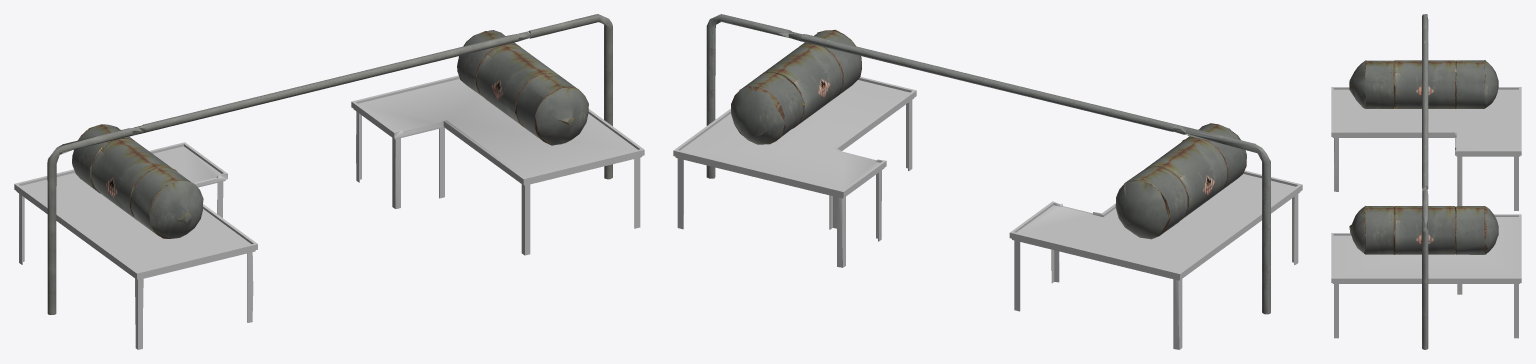
Rendered from tank_1_lod2.FBX.
The picture shows the model from 3 angles, left to right: view 1: azimuth 30°, elevation 25°; view 2: azimuth 150°, elevation 25°; view 3: azimuth 270°, elevation 25°; orthographic projection. The views are drawn at different scales.
Parts seen in each view (by area): view 1: Mesh Object; view 2: Mesh Object; view 3: Mesh Object.
Part boxes in pixels (x1,y1,x2,y2): Mesh Object: [14, 14, 644, 349]; Mesh Object: [673, 14, 1302, 349]; Mesh Object: [1331, 14, 1521, 349].
Size of the model in its own units: 30.71 by 8.63 by 11.56.
